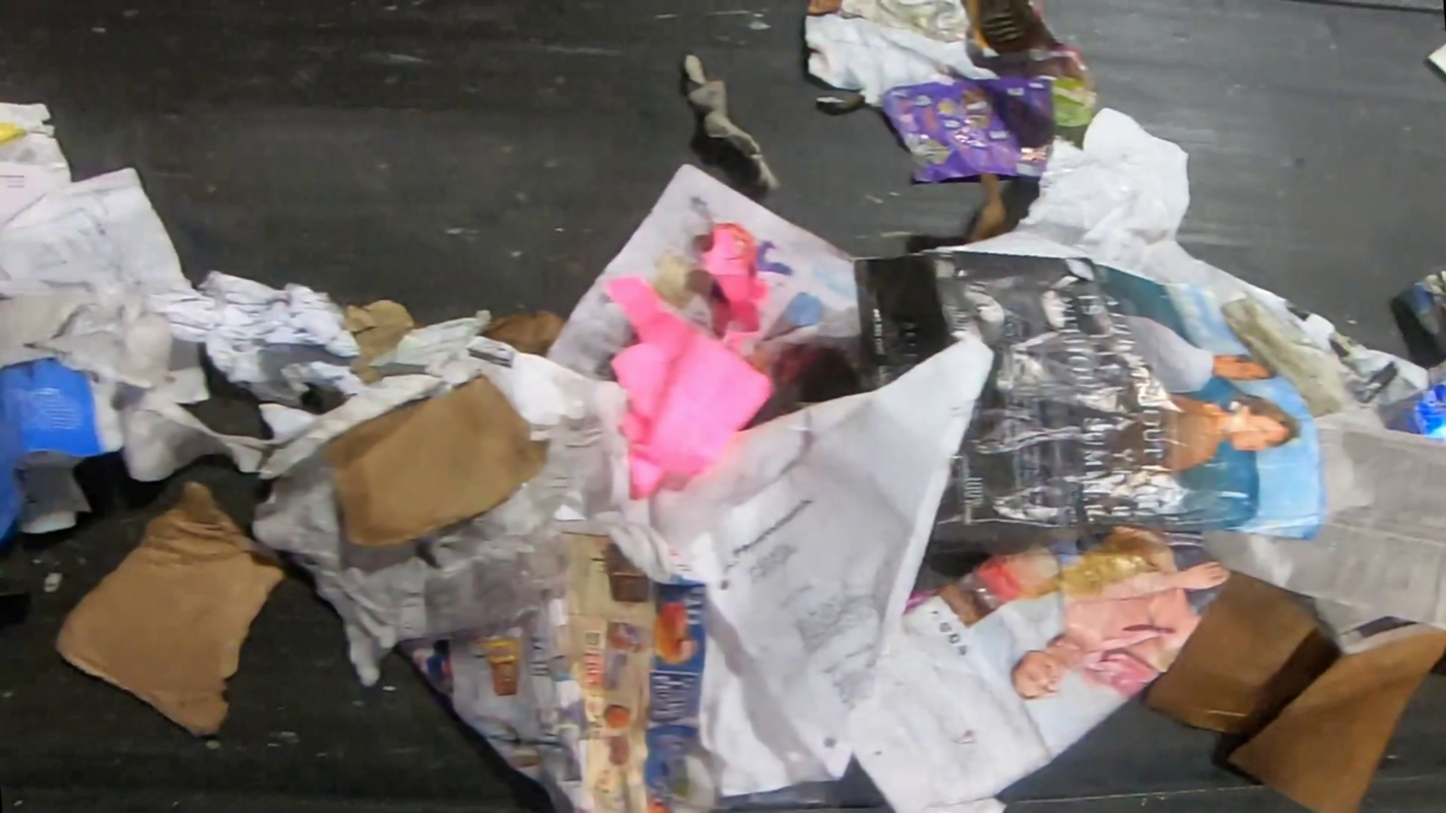cardboard: (1145, 570, 1446, 813), (53, 480, 292, 739), (322, 373, 551, 548), (341, 298, 426, 384), (477, 310, 567, 357), (1384, 376, 1446, 441)
